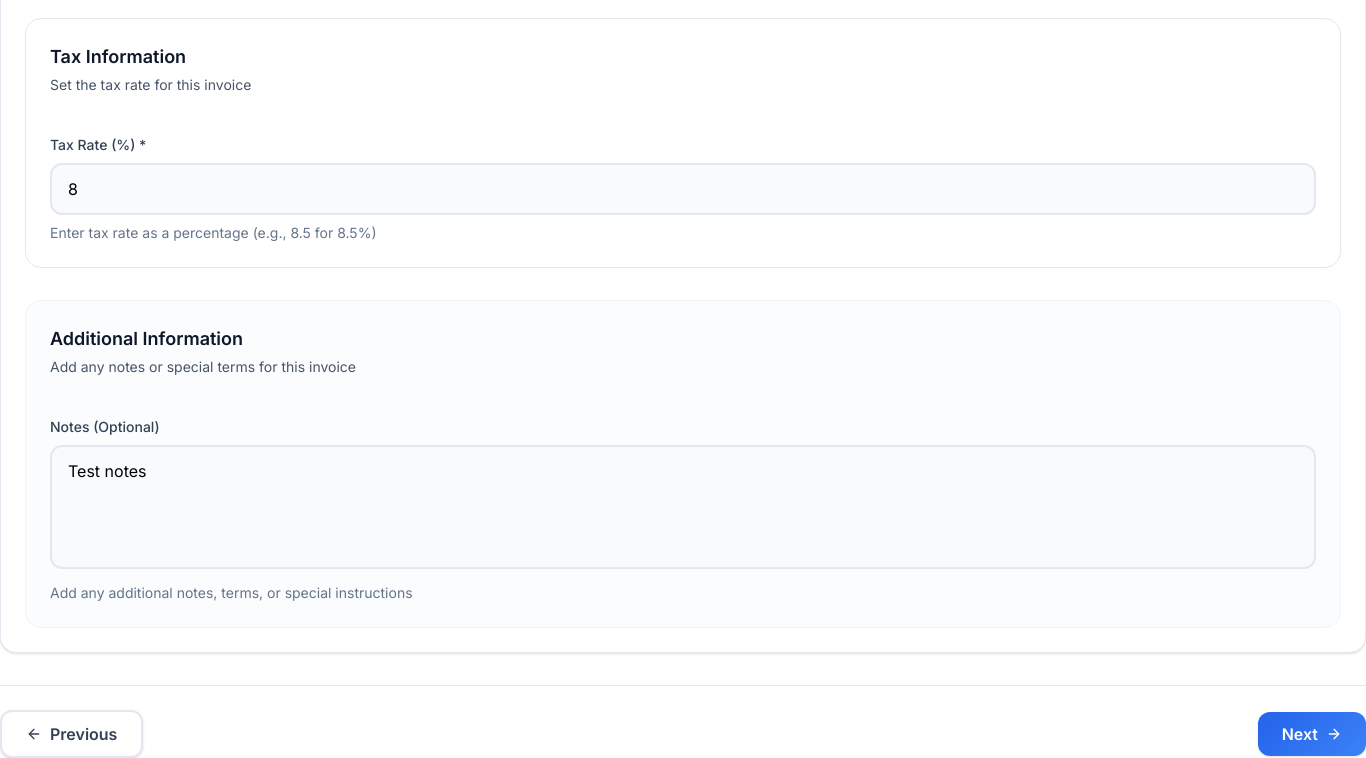
it: InvoiceBuilder - Update Invoice Functionality › Initial State for Editing › should display existing line items
(page scrolled)
Navigate to items step
Click the button "Next". click: (1312, 734)
box: [1258,712,1365,756]
(page scrolled)
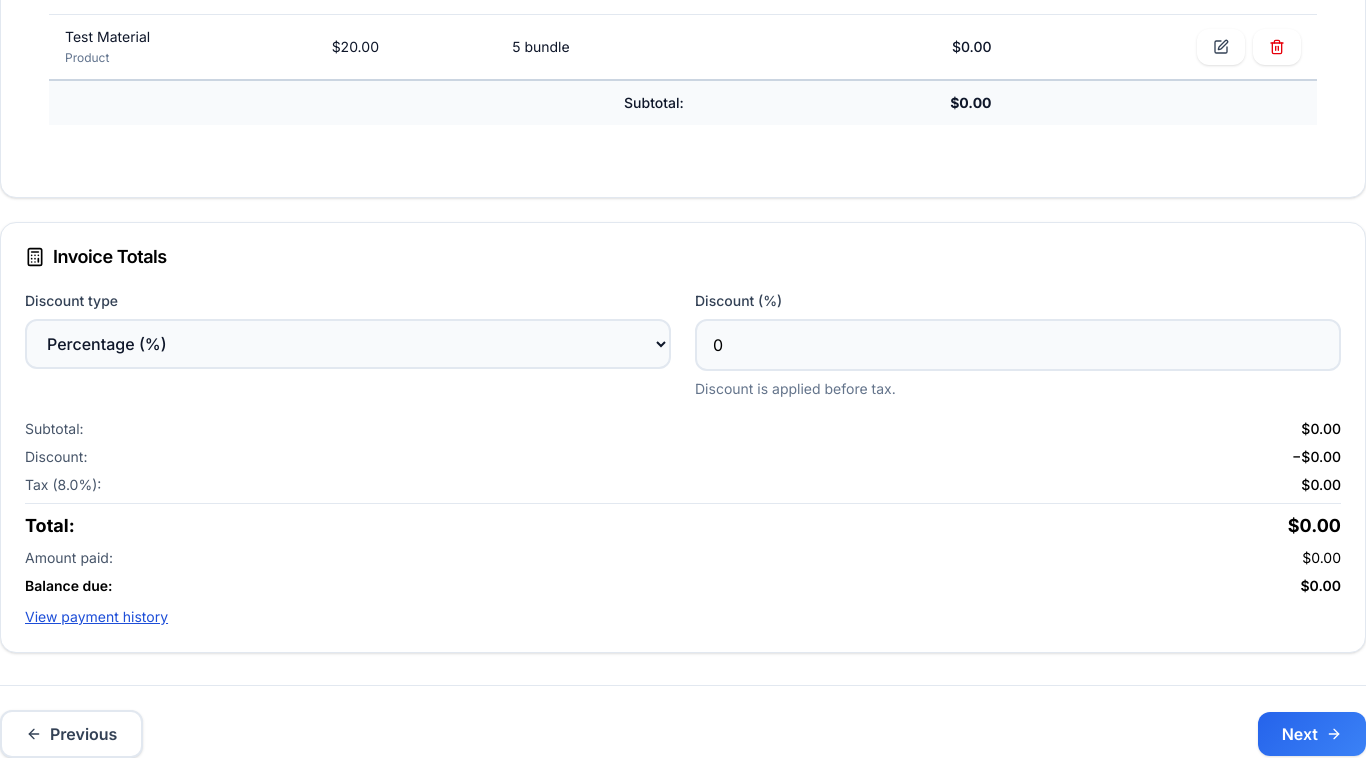
Expected: the text "Test Material" is shown, [65,28,150,45]
